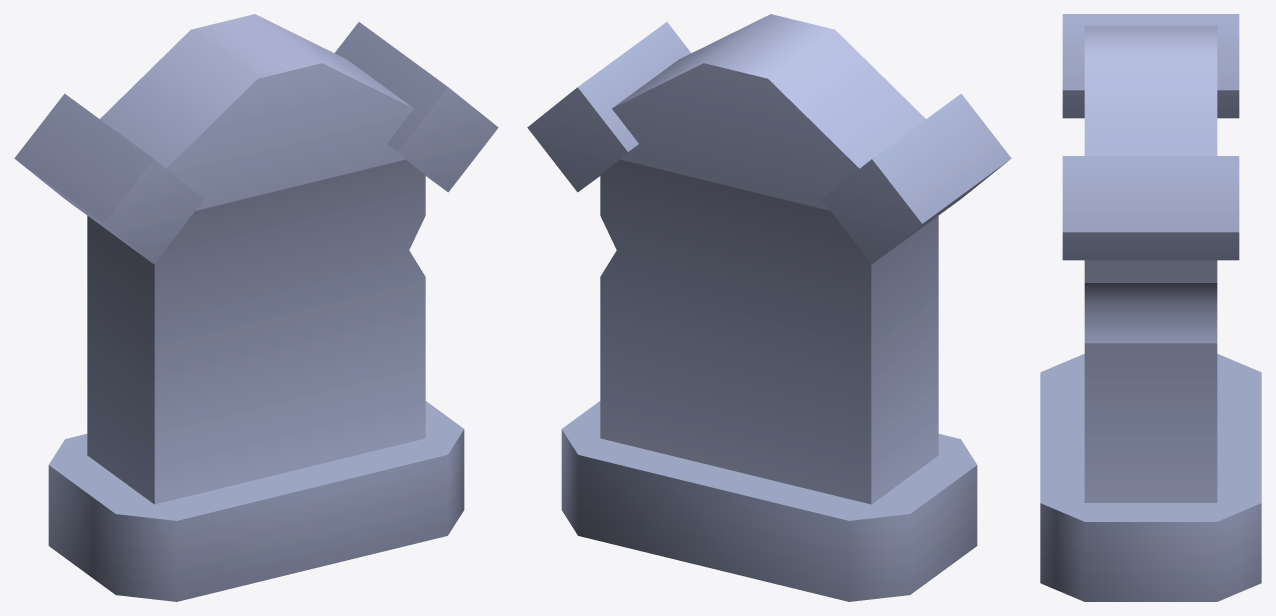
File: k-graveyard-gravestone-decorative.glb
The picture shows the model from 3 angles, left to right: view 1: azimuth 30°, elevation 25°; view 2: azimuth 150°, elevation 25°; view 3: azimuth 270°, elevation 25°; orthographic projection.
Visible parts, largest first — view 1: gravestone-decorative; view 2: gravestone-decorative; view 3: gravestone-decorative.
Boxes of the visible parts, x1,y1,x2,y2 form: gravestone-decorative: (14, 14, 498, 601); gravestone-decorative: (527, 14, 1011, 601); gravestone-decorative: (1040, 14, 1261, 601).
Size of the model in its own units: 0.5101 by 0.5942 by 0.25.
Materials: 1 (1 with a texture image).
